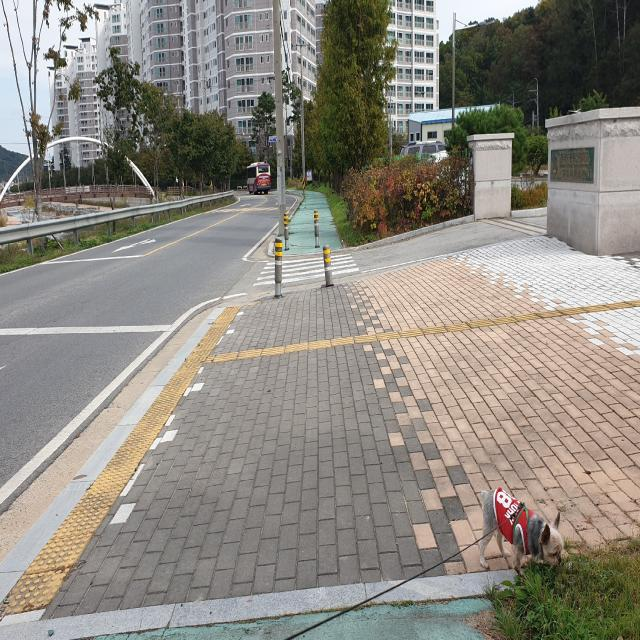횡단보도: (252, 252, 360, 288)
